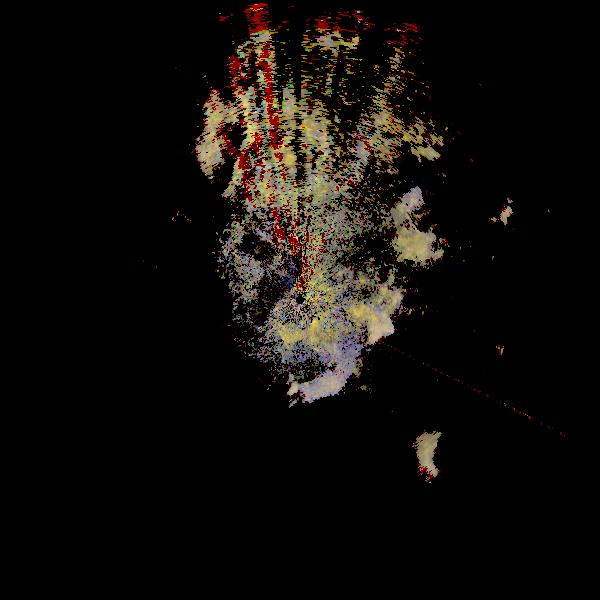roost: (382, 163, 493, 274), (263, 320, 359, 416), (401, 416, 488, 503), (325, 299, 397, 371)
